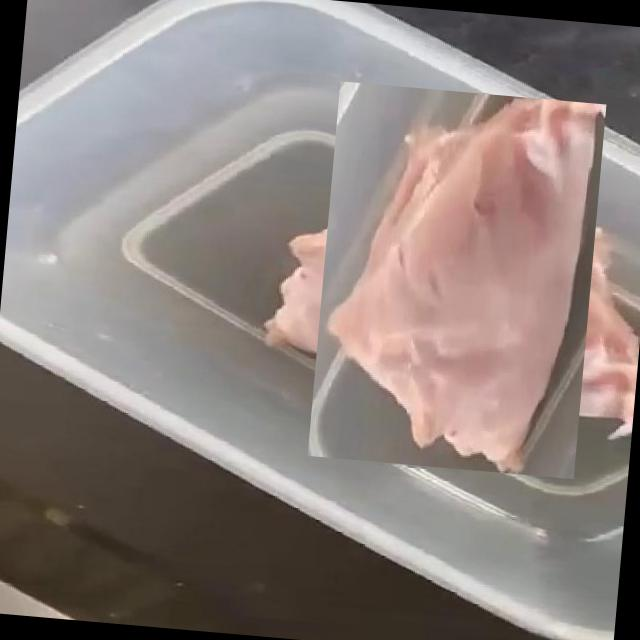chicken: (282, 106, 630, 453)
